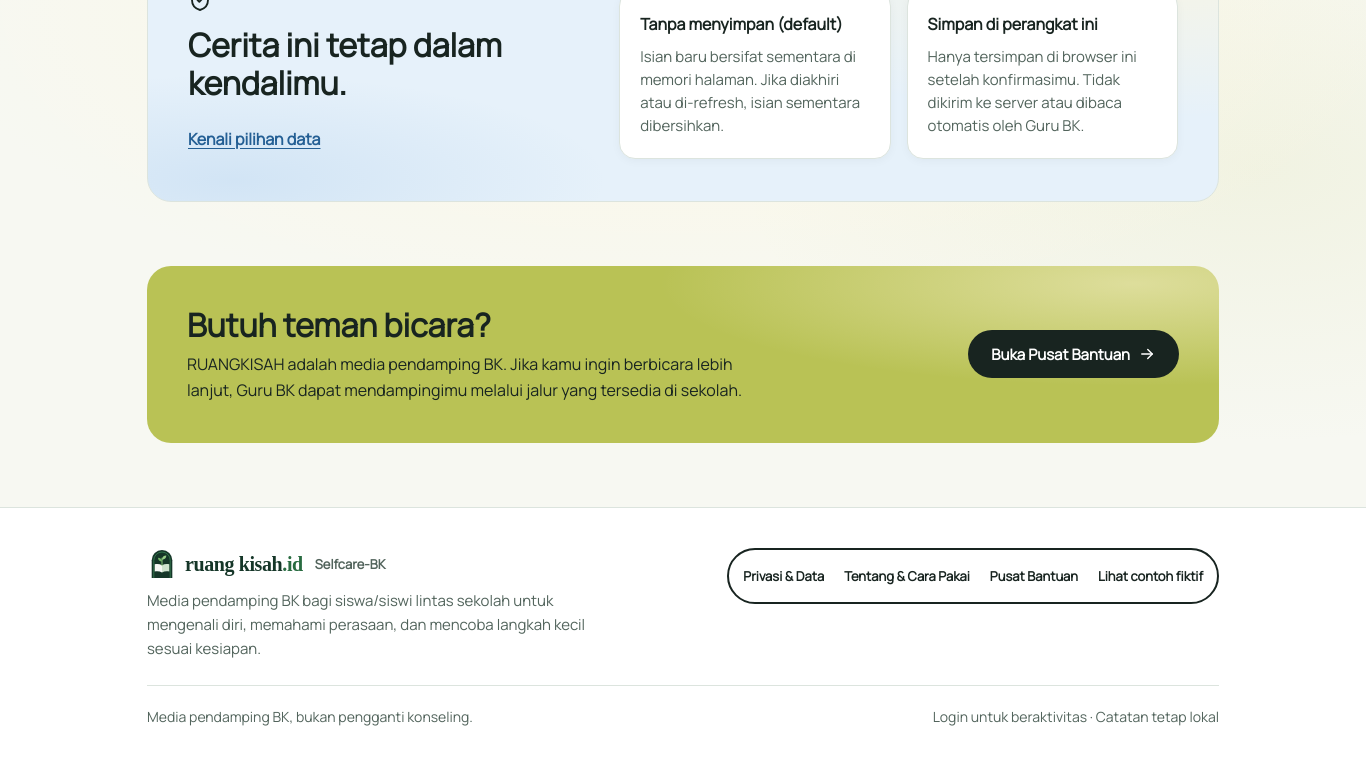
Scenario: RUANGKISAH.ID integration flows › mengisolasi Mode Demonstrasi dari penyimpanan lokal pribadi
(page scrolled)
Click the button "Lihat contoh fiktif". click: (1151, 576)
box: [1088,554,1213,598]
(page scrolled)
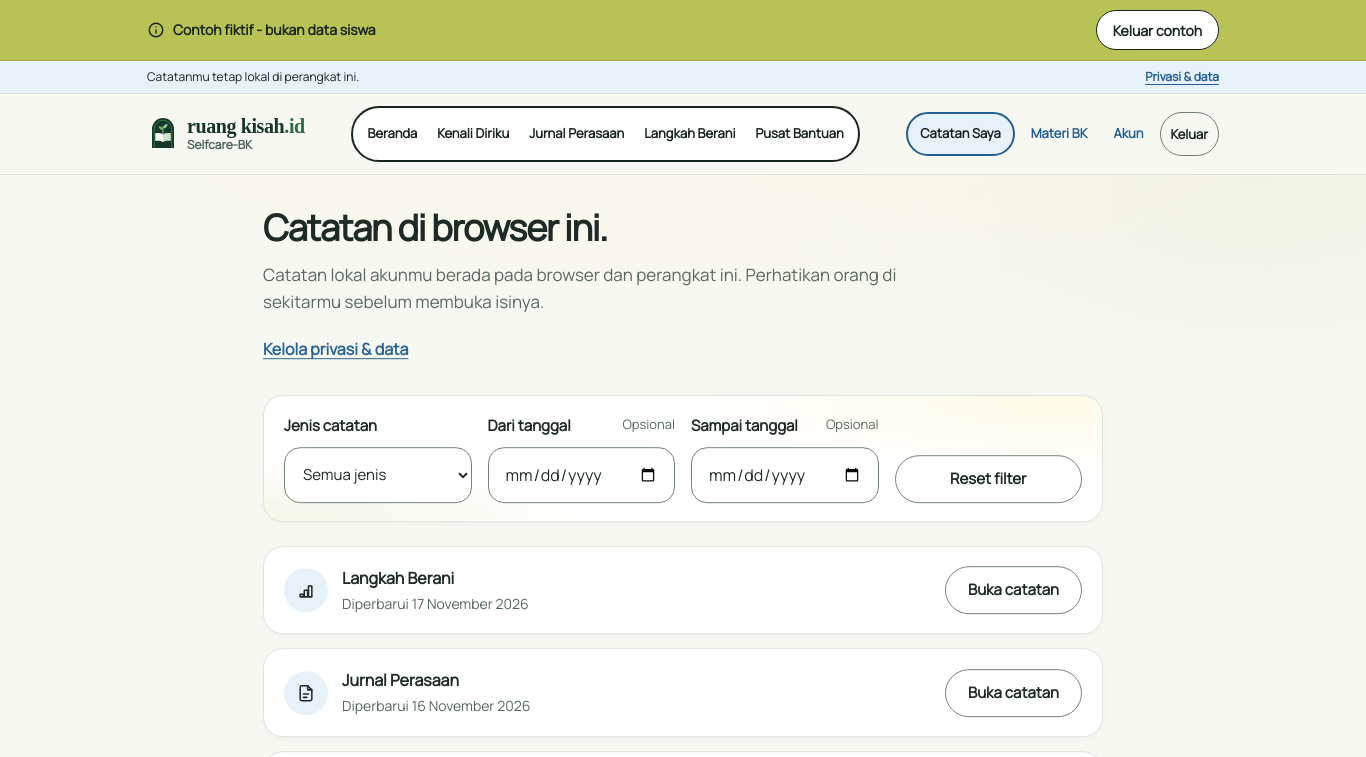
Check: the text "Contoh fiktif - bukan data siswa" is shown, box [173,19,376,41]
Check: the number of buttons "Buka catatan" is 3
Click the button "Keluar contoh". click: (1157, 30)
box: [1096,10,1219,50]
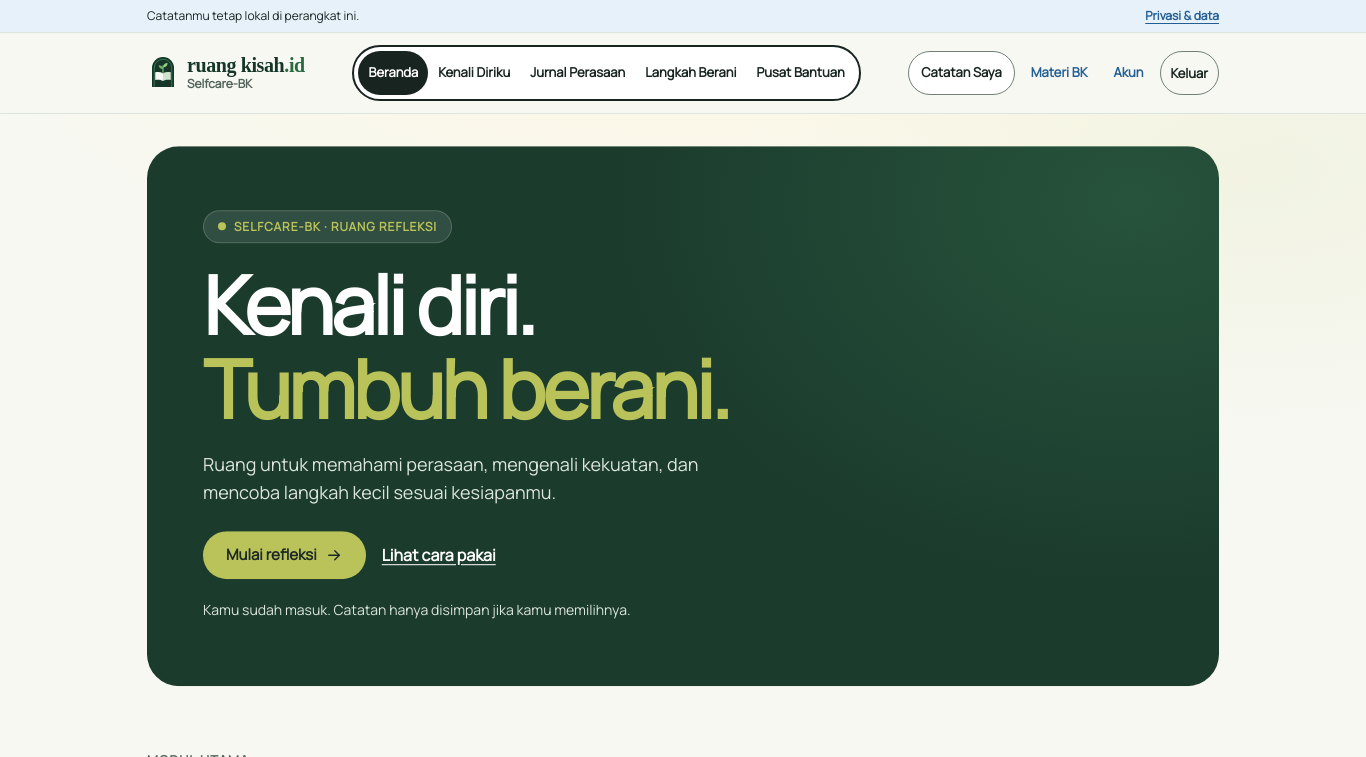
Check: the text "Contoh fiktif - bukan data siswa" is gone
